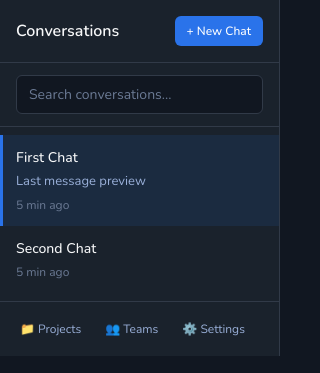
Test: ChatSidebar › search functionality › shows empty message when no matches
Type "nonexistent" into the field with test id "conversation-search" at (140, 94), box [16,75,263,114]
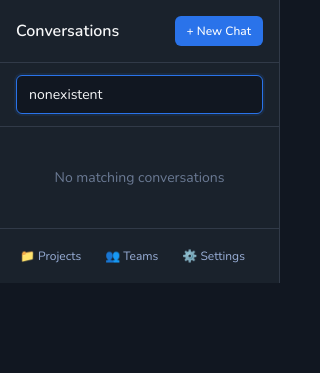
Now the text "No matching conversations" is shown, box [55,168,224,187]
